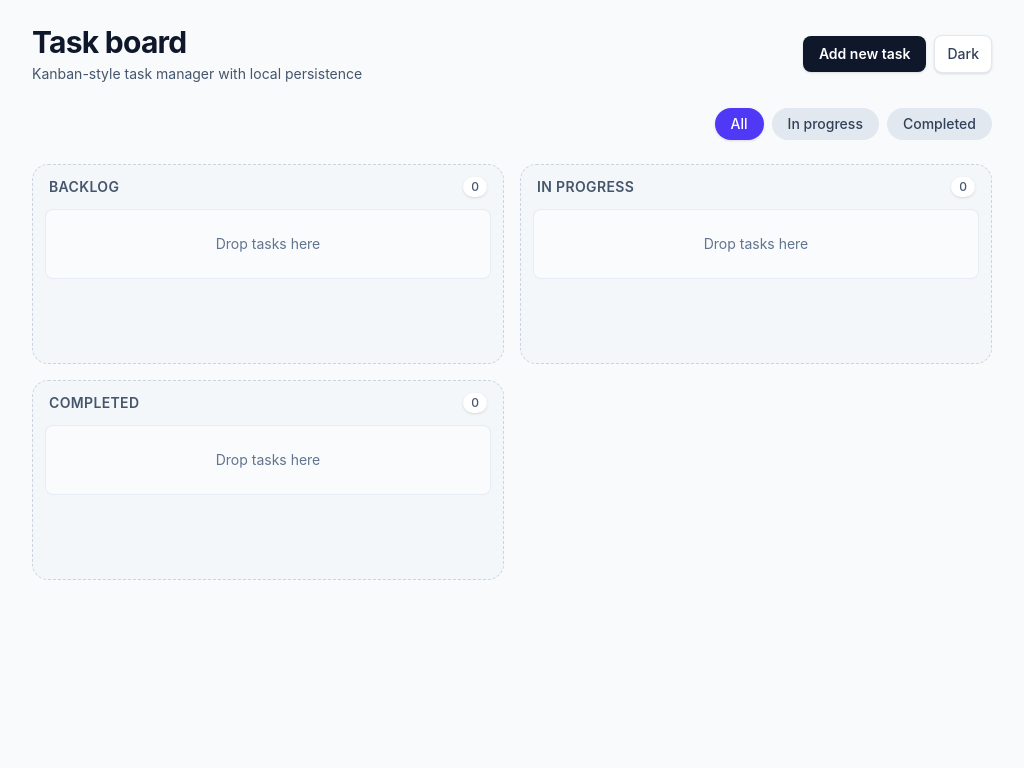
Test: App › creates a task from the modal
Click the button "Add new task" at (865, 54), box [803,36,926,72]
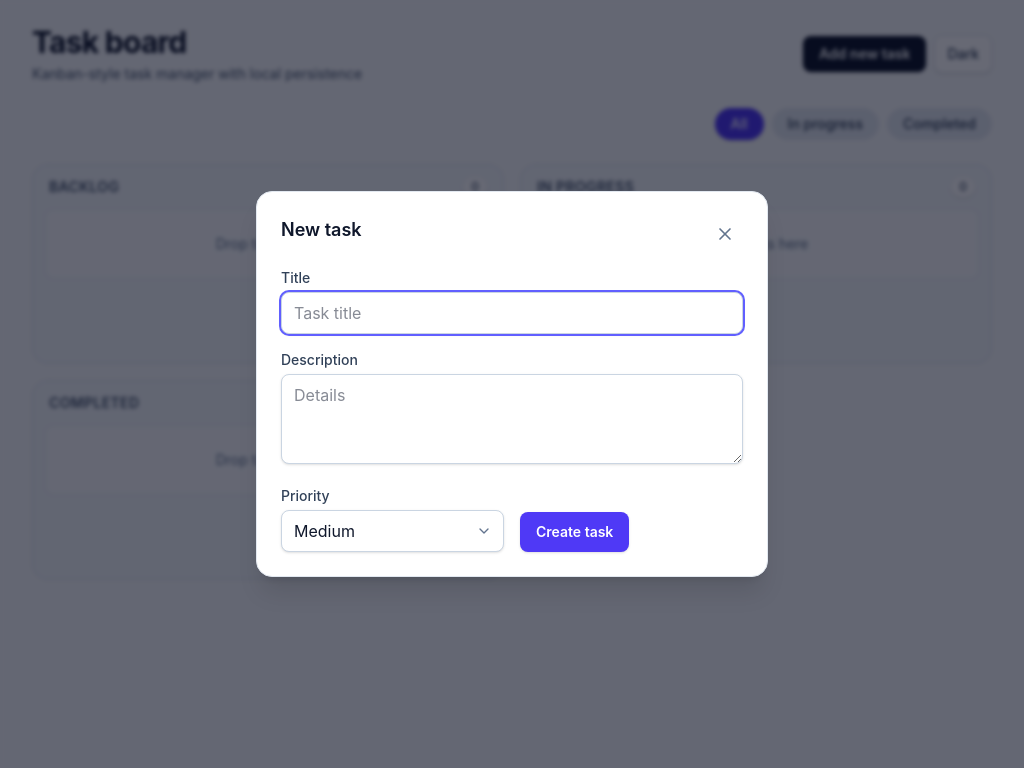
Type "Modal task" into the field with placeholder "Task title" at (512, 313), box [281,292,743,334]
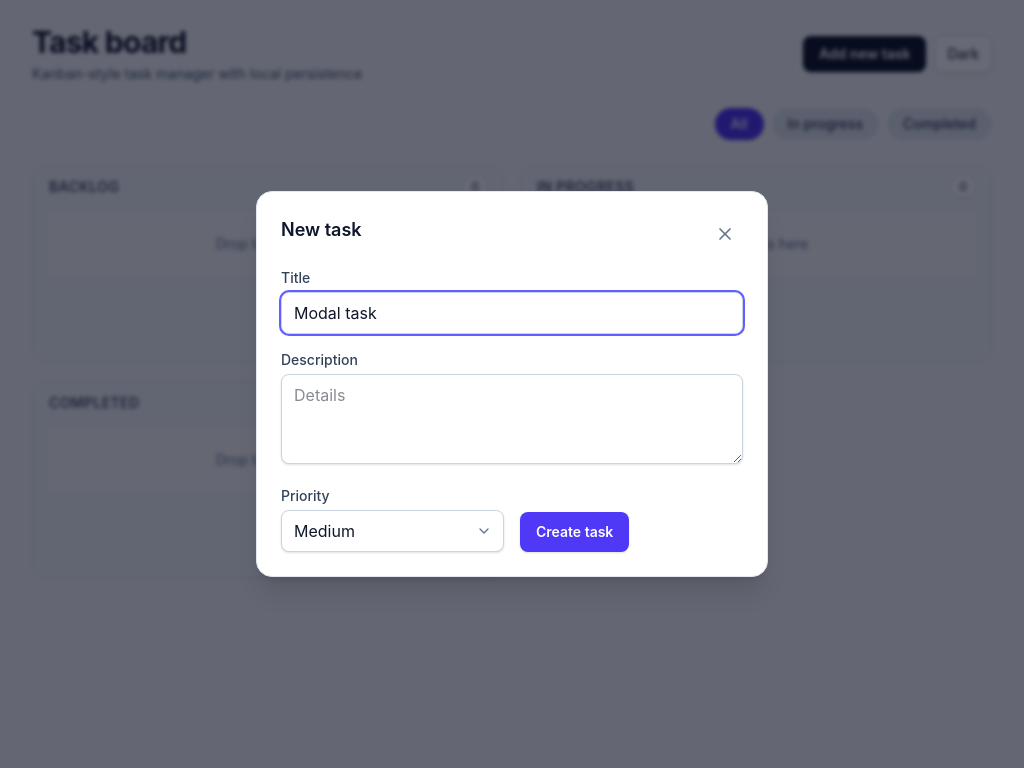
Click the button "Create task" at (575, 532), box [520,512,629,552]
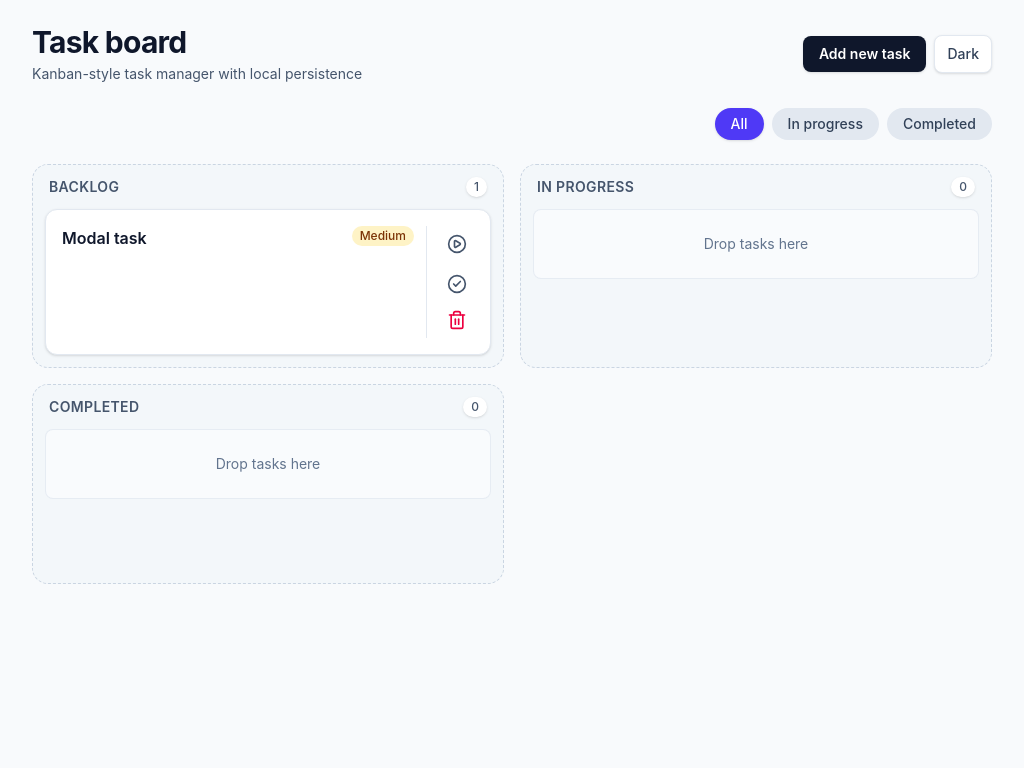
Expected: the dialog is gone
Expected: the heading "Modal task" is shown, [62,226,147,250]
